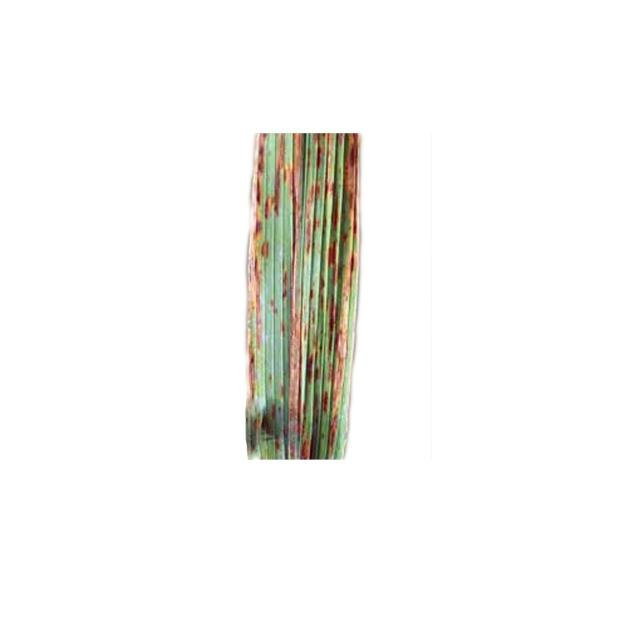Narrow brown: (220, 116, 408, 507)
